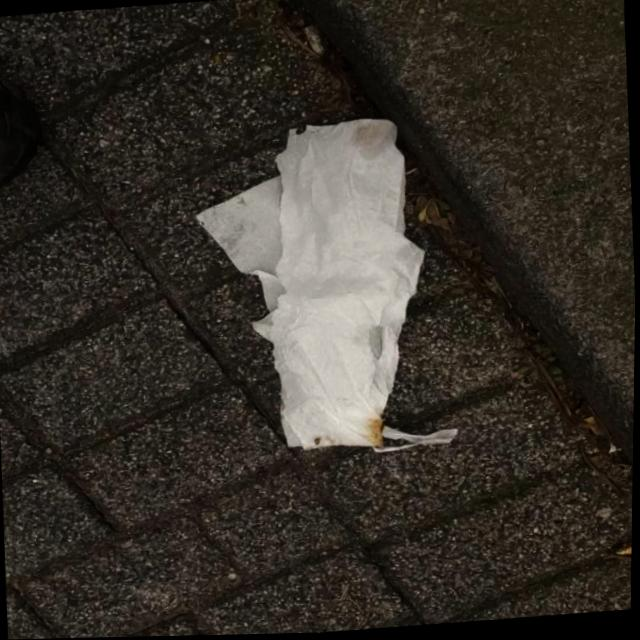Paper: (184, 115, 444, 463)
